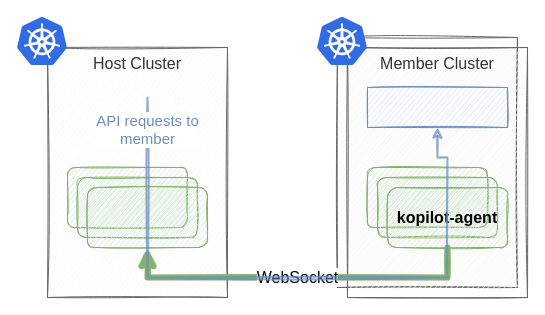
This 545x315 diagram has some shape labels left out. Each missing label, with the centre of its shape:
"kopilot-hub" belongs at [147,217].
"kube-apiserver" belongs at [437,107].
